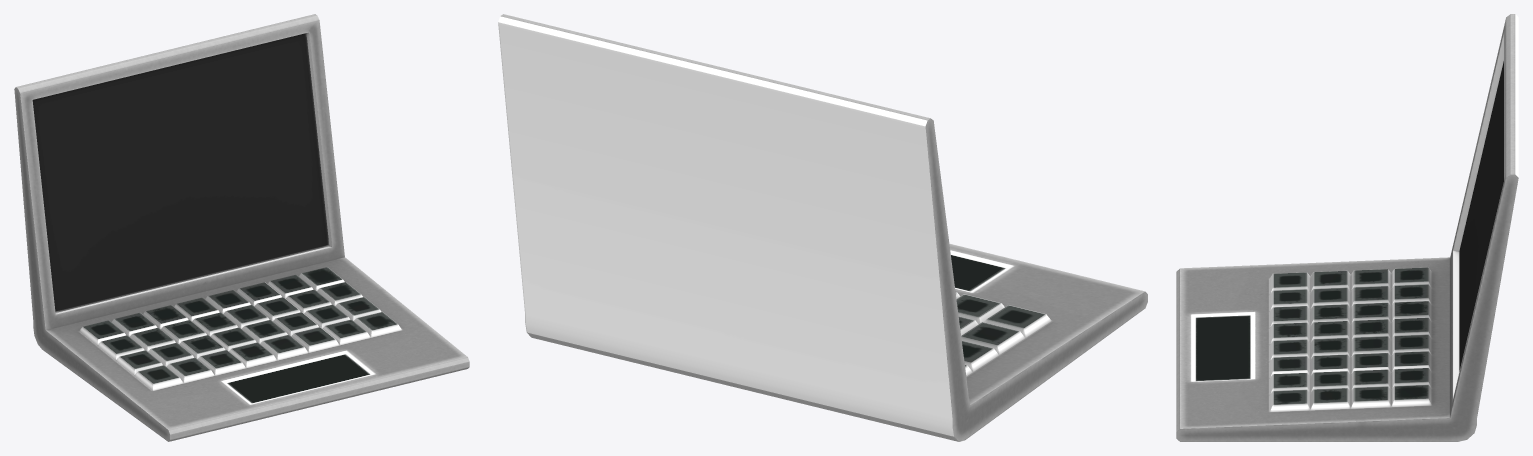
File: model_Laptop.glb
3 views of the same model, side by side, from view 1: azimuth 30°, elevation 25°; view 2: azimuth 150°, elevation 25°; view 3: azimuth 270°, elevation 25° (orthographic). The views are drawn at different scales.
Visible parts, largest first — view 1: Object_2; view 2: Object_2; view 3: Object_2.
Part boxes in pixels (x1,y1,x2,y2): Object_2: [14, 14, 469, 441]; Object_2: [498, 14, 1147, 441]; Object_2: [1176, 14, 1518, 441].
Bounding box in the file's own units: 0.415 × 0.3221 × 0.3738.
1 material, 1 textured.
